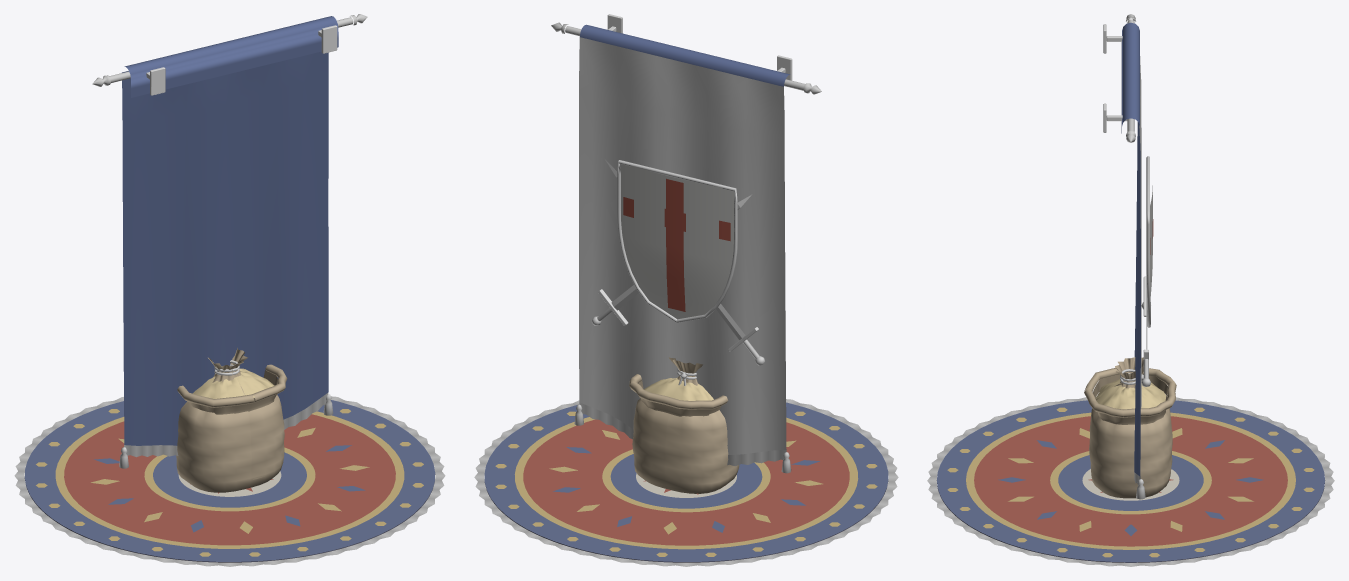
File: textiles.glb
The picture shows the model from 3 angles, left to right: view 1: azimuth 30°, elevation 25°; view 2: azimuth 150°, elevation 25°; view 3: azimuth 270°, elevation 25°; orthographic projection. The views are drawn at different scales.
Parts seen in each view (by area): view 1: banner_lamp, rug_round, sack_tied, sack_open, banner_sheaf; view 2: banner_lamp, rug_round, banner_shield, sack_tied, sack_open, banner_sheaf; view 3: rug_round, sack_tied, banner_lamp, sack_open, banner_shield, banner_sheaf.
Boxes of the visible parts, box(x1,y1,x2,y2) form: banner_lamp: box(119, 16, 338, 468); rug_round: box(14, 396, 445, 566); sack_tied: box(176, 348, 284, 492); sack_open: box(177, 364, 287, 491); banner_sheaf: box(92, 14, 367, 95); banner_lamp: box(574, 24, 791, 473); rug_round: box(474, 399, 898, 566); banner_shield: box(591, 159, 765, 365); sack_tied: box(632, 357, 739, 493); sack_open: box(629, 374, 728, 492); banner_sheaf: box(551, 14, 821, 94); rug_round: box(927, 397, 1334, 566); sack_tied: box(1089, 357, 1172, 498); banner_lamp: box(1121, 22, 1145, 499); sack_open: box(1084, 368, 1176, 424); banner_shield: box(1141, 156, 1153, 386); banner_sheaf: box(1103, 14, 1135, 142).
Bounding box in the file's own units: 2.52 × 2.83 × 2.52.
